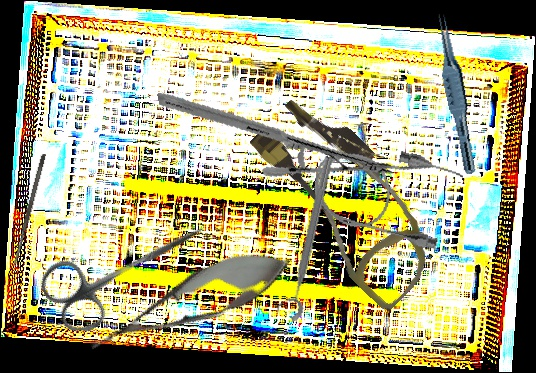Cannula: (230, 85, 462, 314), (305, 132, 466, 253)
Fixation Ring: (272, 152, 339, 324)
Iris Scissors: (33, 192, 221, 343)
Micro Scissor: (79, 232, 300, 372)
Needle Holder: (157, 49, 393, 219)
Spatula Surgical: (11, 153, 47, 267)
Tissue Forceps: (427, 11, 486, 176)
